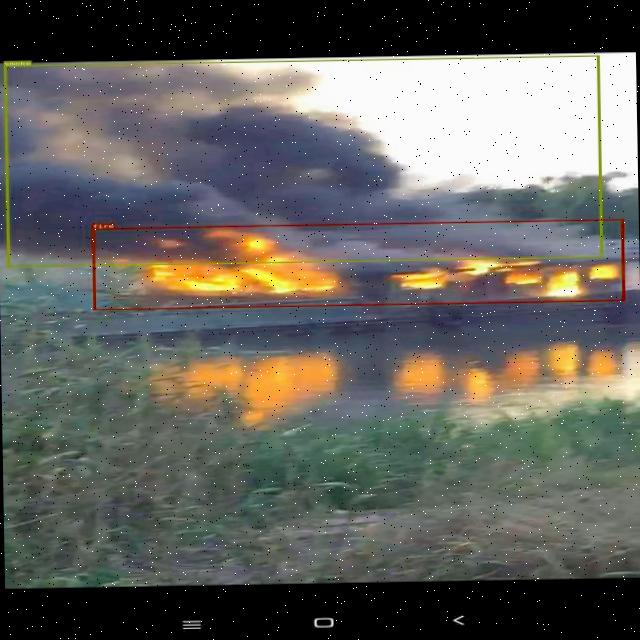fire: (91, 218, 624, 310)
smoke: (2, 55, 602, 267)
